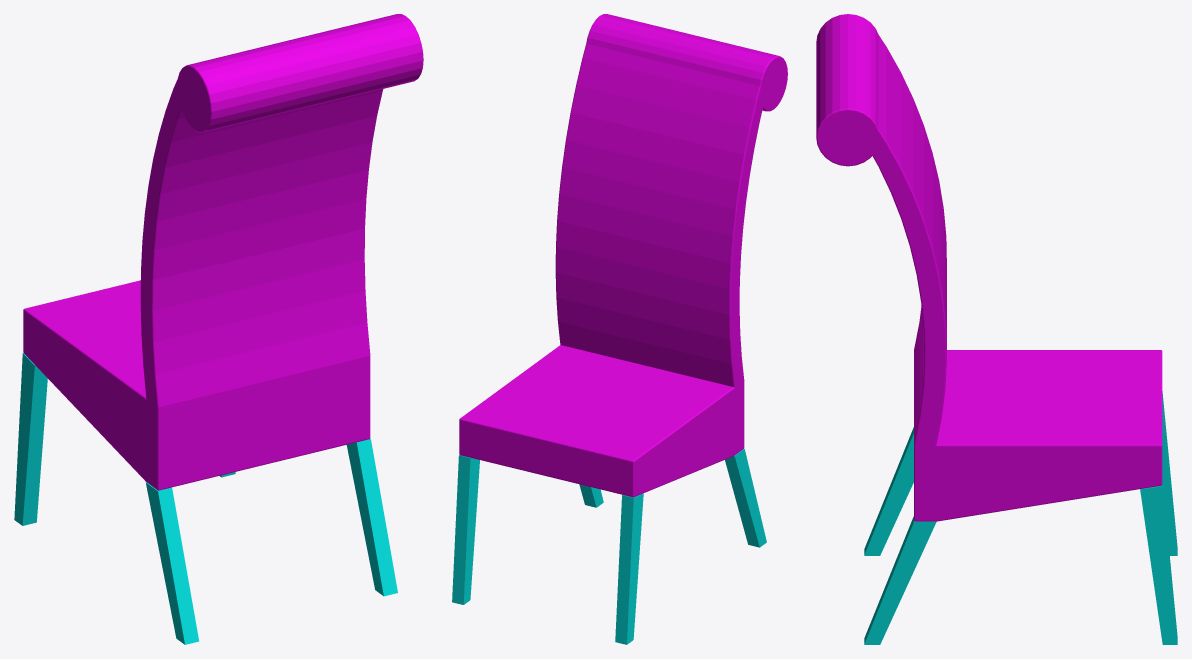
The model's file is OM_1BHK_Kitchen_Dining_Chair.fbx.
The picture shows the model from 3 angles, left to right: view 1: azimuth 30°, elevation 25°; view 2: azimuth 150°, elevation 25°; view 3: azimuth 270°, elevation 25°; orthographic projection. The views are drawn at different scales.
Parts seen in each view (by area): view 1: OM_1BHK_Kitchen_Dining_Chair_Top, OM_1BHK_Kitchen_Dining_Chair_Legs; view 2: OM_1BHK_Kitchen_Dining_Chair_Top, OM_1BHK_Kitchen_Dining_Chair_Legs; view 3: OM_1BHK_Kitchen_Dining_Chair_Top, OM_1BHK_Kitchen_Dining_Chair_Legs.
Boxes of the visible parts, x1,y1,x2,y2 form: OM_1BHK_Kitchen_Dining_Chair_Top: [23, 14, 423, 490]; OM_1BHK_Kitchen_Dining_Chair_Legs: [14, 353, 397, 644]; OM_1BHK_Kitchen_Dining_Chair_Top: [459, 14, 787, 497]; OM_1BHK_Kitchen_Dining_Chair_Legs: [452, 449, 766, 644]; OM_1BHK_Kitchen_Dining_Chair_Top: [816, 14, 1162, 521]; OM_1BHK_Kitchen_Dining_Chair_Legs: [864, 391, 1177, 644].
Bounding box in the file's own units: 1.25 × 3.27 × 2.
